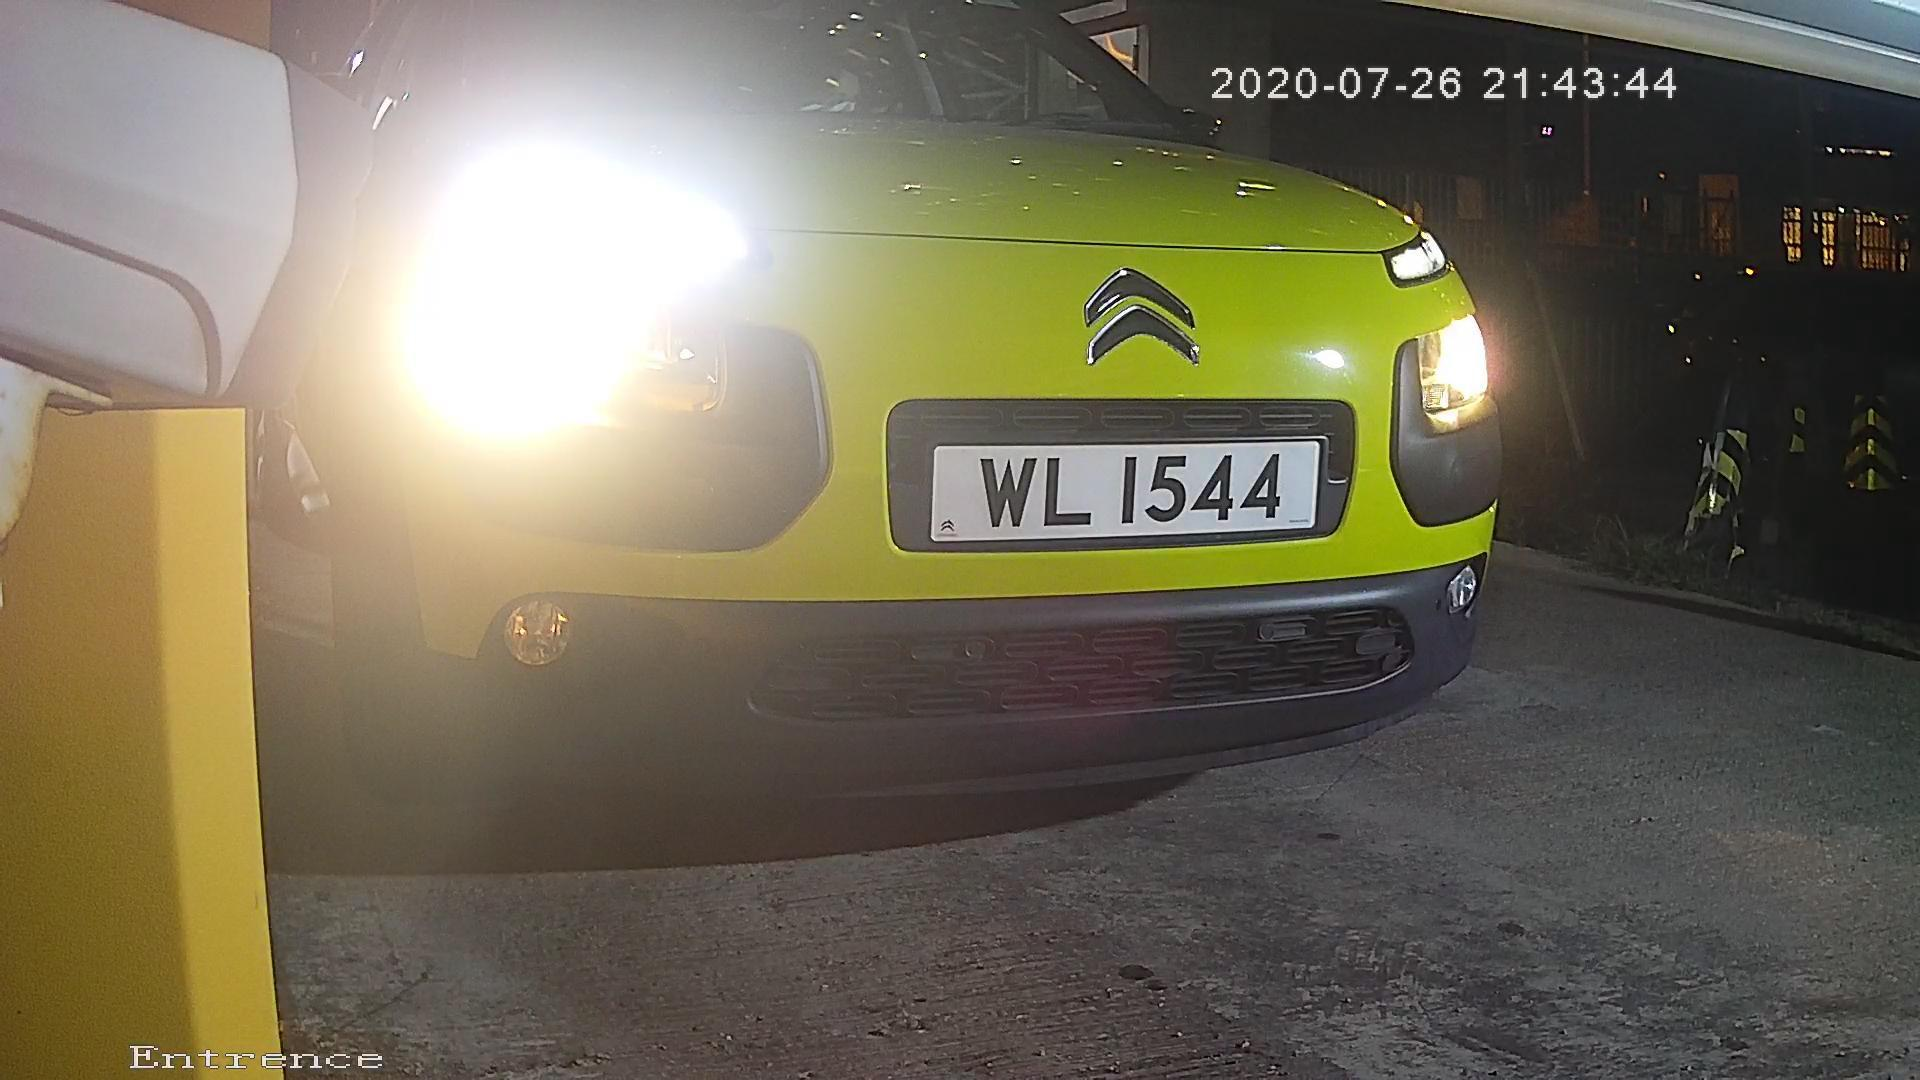Car: (43, 58, 1646, 806)
License Plate: (883, 420, 1329, 550)
